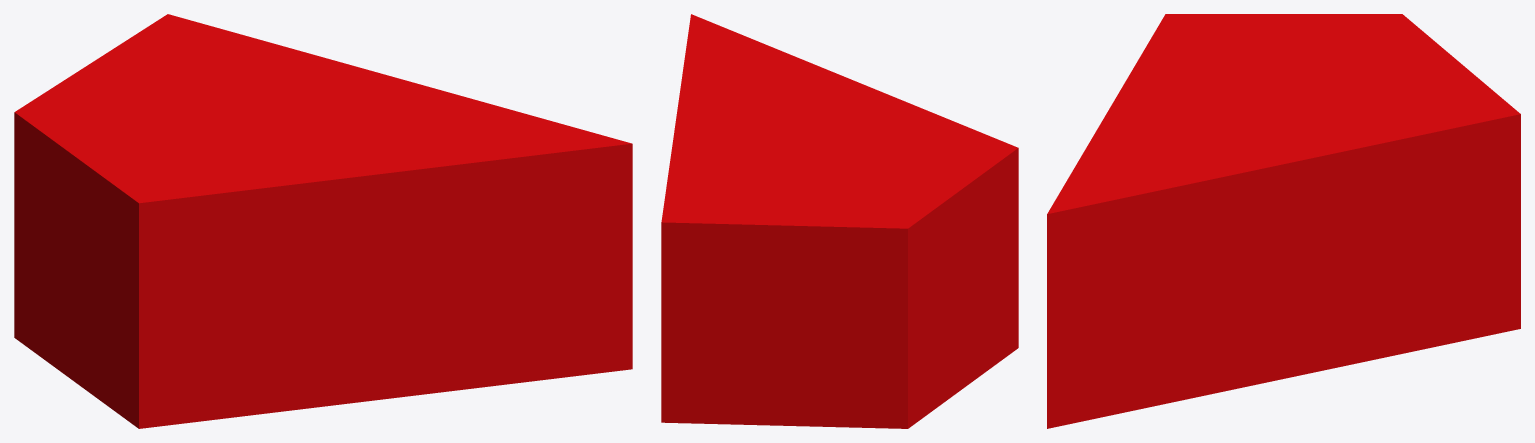
The model's file is convexhull.glb.
The picture shows the model from 3 angles, left to right: view 1: azimuth 30°, elevation 25°; view 2: azimuth 150°, elevation 25°; view 3: azimuth 270°, elevation 25°; orthographic projection. The views are drawn at different scales.
Visible parts, largest first — view 1: TestConvex_fullhitbox; view 2: TestConvex_fullhitbox; view 3: TestConvex_fullhitbox.
Boxes of the visible parts, x1=… form: TestConvex_fullhitbox: x1=14, y1=14, x2=632, y2=428; TestConvex_fullhitbox: x1=661, y1=14, x2=1018, y2=428; TestConvex_fullhitbox: x1=1047, y1=14, x2=1520, y2=428.
Bounding box in the file's own units: 2 × 1 × 2.
